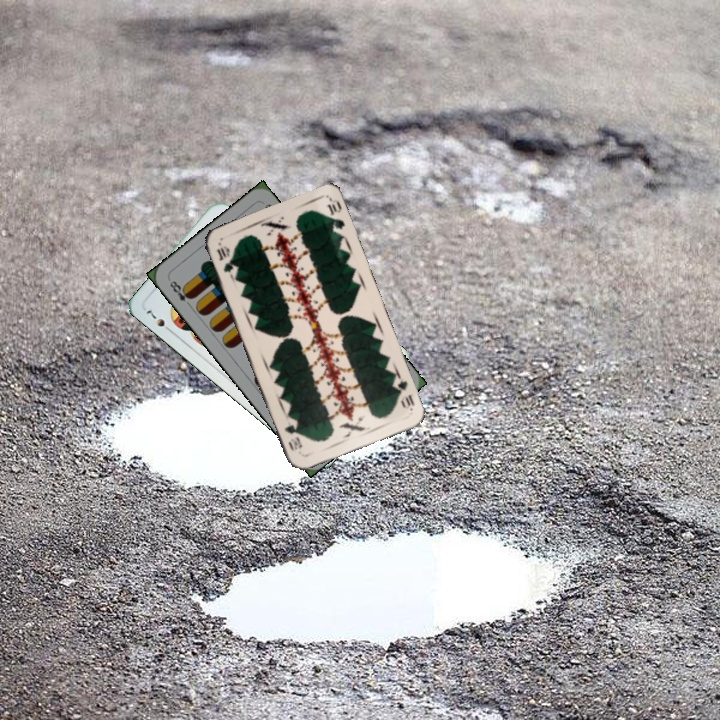E8: (166, 276, 195, 310)
G10: (389, 375, 417, 413), (213, 242, 236, 275)
S7: (142, 306, 175, 336)
